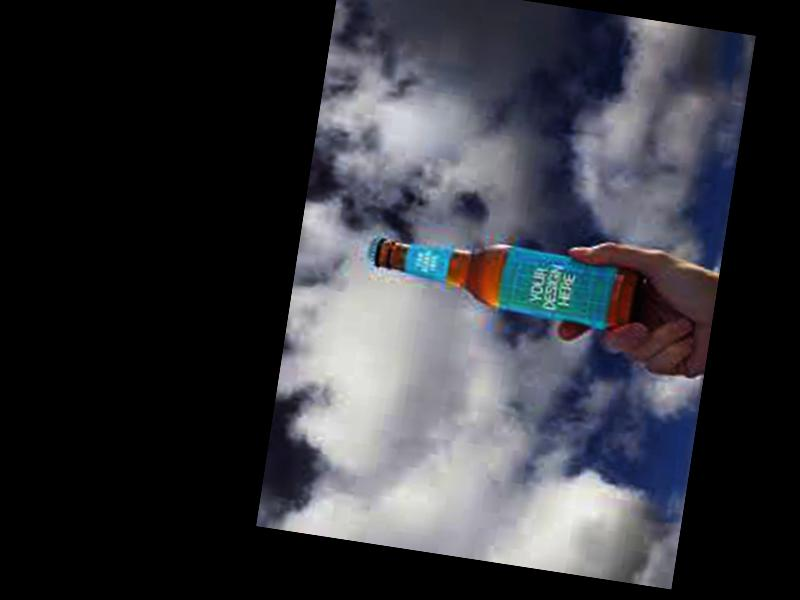Beer: (364, 224, 644, 328)
